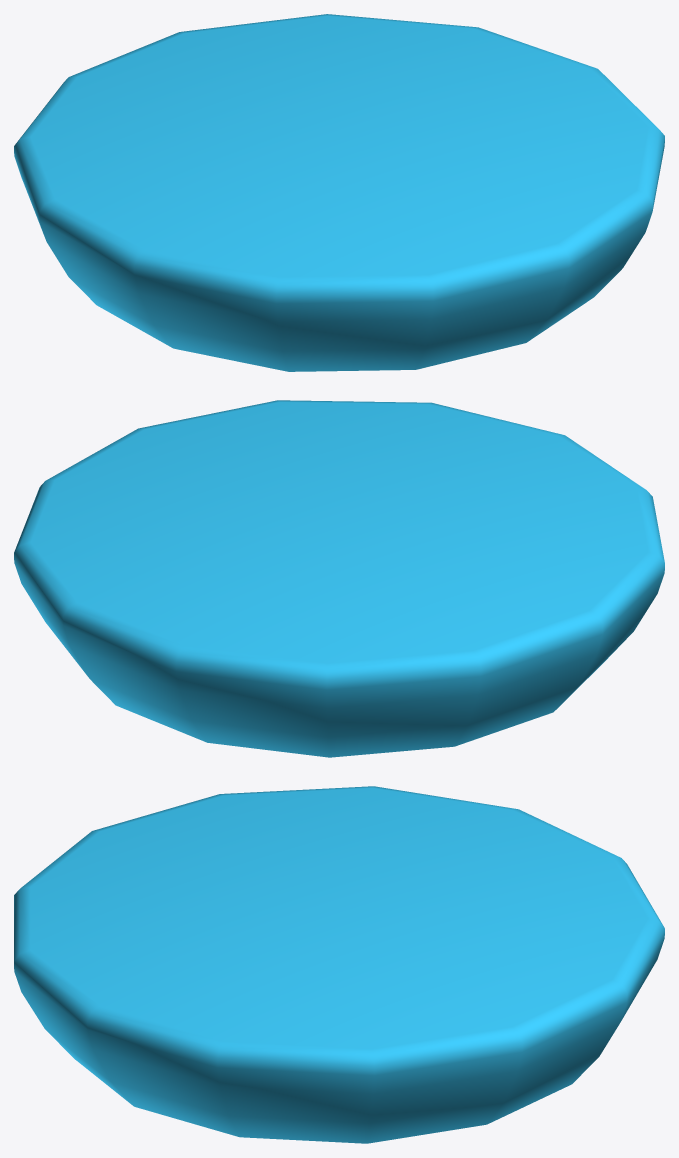
Rendered from WaterShot_Low.fbx.
3 views of the same model, one above another, from view 1: azimuth 30°, elevation 25°; view 2: azimuth 150°, elevation 25°; view 3: azimuth 270°, elevation 25° (orthographic).
Parts seen in each view (by area): view 1: WaterShot_Low; view 2: WaterShot_Low; view 3: WaterShot_Low.
Boxes of the visible parts, <box> form: WaterShot_Low: <box>14,14,664,371</box>; WaterShot_Low: <box>14,400,664,757</box>; WaterShot_Low: <box>14,786,664,1143</box>.
Bounding box in the file's own units: 43.93 × 10.93 × 43.92.
